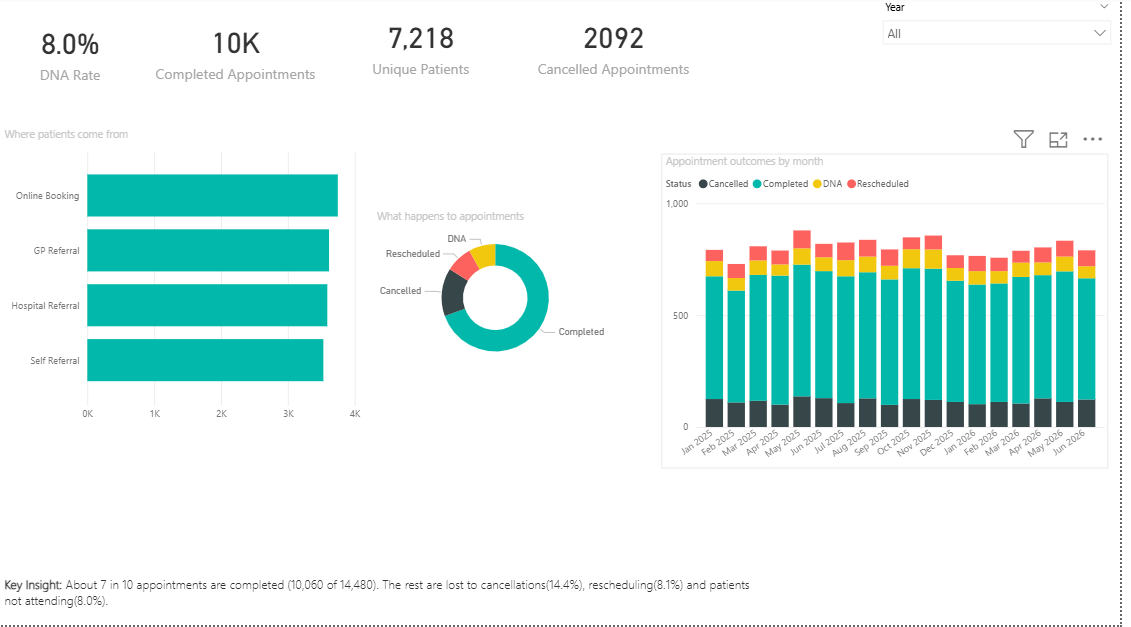

The dashboard page shown, as its layout file describes it:
{"tool":"powerbi","page":{"name":"Patient Flow","canvas":[1280,720],"ordinal":3},"visuals":[{"type":"slicer","title":"Patient Flow","fields":{"Values":["Dim_Date.Year"]},"box":[999,0,281,87.7],"z":0},{"type":"card","fields":{"Values":["_Measures.Completed Appointments"]},"box":[159.7,13.2,218.5,99.7],"z":1000},{"type":"card","fields":{"Values":["_Measures.Cancelled Appointments"]},"box":[602.8,0,196.9,112.9],"z":2000},{"type":"card","fields":{"Values":["_Measures.DNA Rate"]},"box":[9.6,13.2,140.5,100.9],"z":3000},{"type":"card","fields":{"Values":["_Measures.Unique Patients"]},"box":[396.2,0,170.5,112.9],"z":4000},{"type":"donutChart","title":"What happens to appointments","fields":{"Category":["Fact_Appointments.Status"],"Y":["_Measures.Total Appointments"]},"box":[426.3,242.6,281,188.5],"z":5000},{"type":"columnChart","title":"Appointment outcomes by month","fields":{"Category":["Dim_Date.Month_Year"],"Y":["_Measures.Total Appointments"],"Series":["Fact_Appointments.Status"]},"box":[755.3,180.1,511.5,360.2],"z":6000},{"type":"barChart","title":"Where patients come from","fields":{"Category":["Fact_Appointments.Referral_Source"],"Y":["_Measures.Total Appointments"]},"box":[0,150.1,416.7,344.6],"z":7000},{"type":"textbox","box":[0,656.8,870.5,63.6],"z":8000}]}

Visuals, with their boxes in screenshot pixels (x1, y1, x2, y2), scaled from the page's 1280x720 canvas onto the 1131x627 screenshot:
"Patient Flow" slicer: rect(883, 0, 1130, 76)
card - _Measures.Completed Appointments: rect(141, 11, 334, 98)
card - _Measures.Cancelled Appointments: rect(533, 0, 707, 98)
card - _Measures.DNA Rate: rect(8, 11, 133, 99)
card - _Measures.Unique Patients: rect(350, 0, 501, 98)
"What happens to appointments" donutChart: rect(377, 211, 625, 375)
"Appointment outcomes by month" columnChart: rect(667, 157, 1119, 471)
"Where patients come from" barChart: rect(0, 131, 368, 431)
textbox: rect(0, 572, 769, 626)
